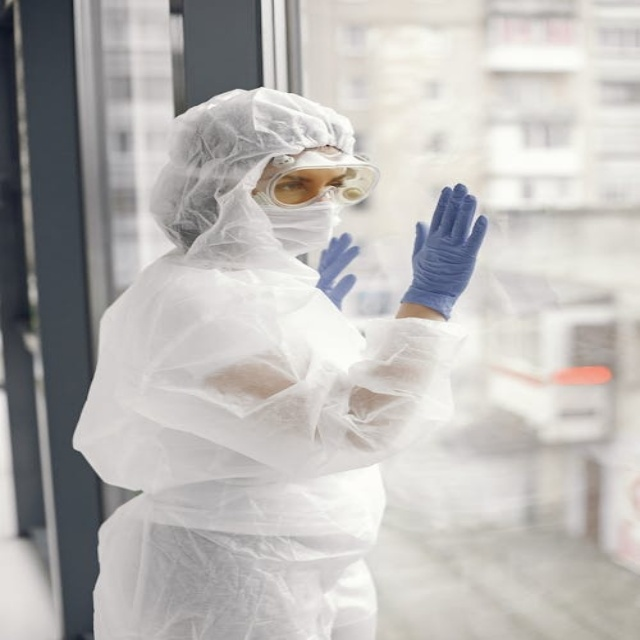Gafas: (254, 152, 380, 211)
Guantes: (407, 177, 489, 315), (320, 228, 362, 312)
Mascara: (239, 182, 342, 262)
